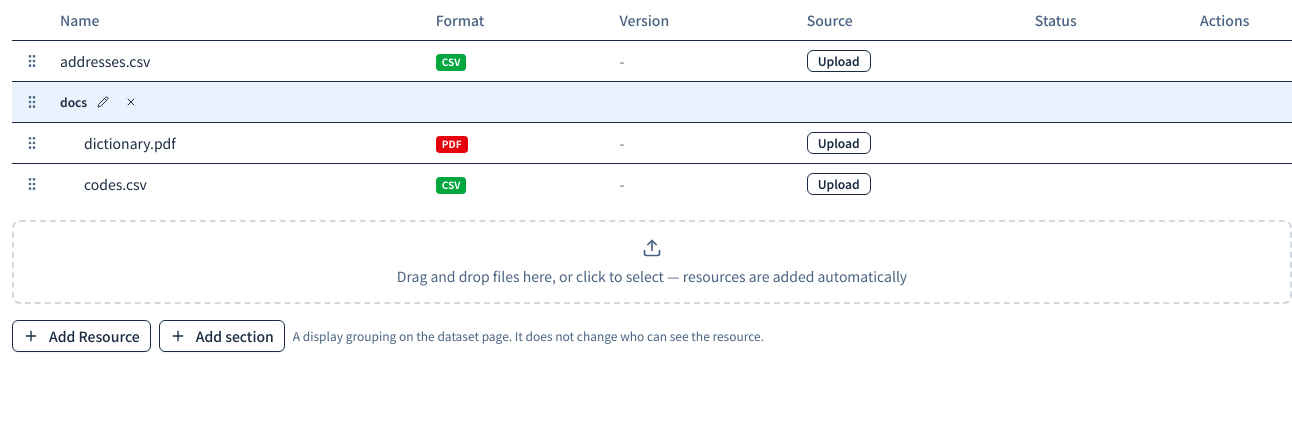
ResourceList sections › should refuse a new section named like one that already exists
Click the button "Add section".
click(222, 336)  # box left=159, top=320, right=285, bottom=352
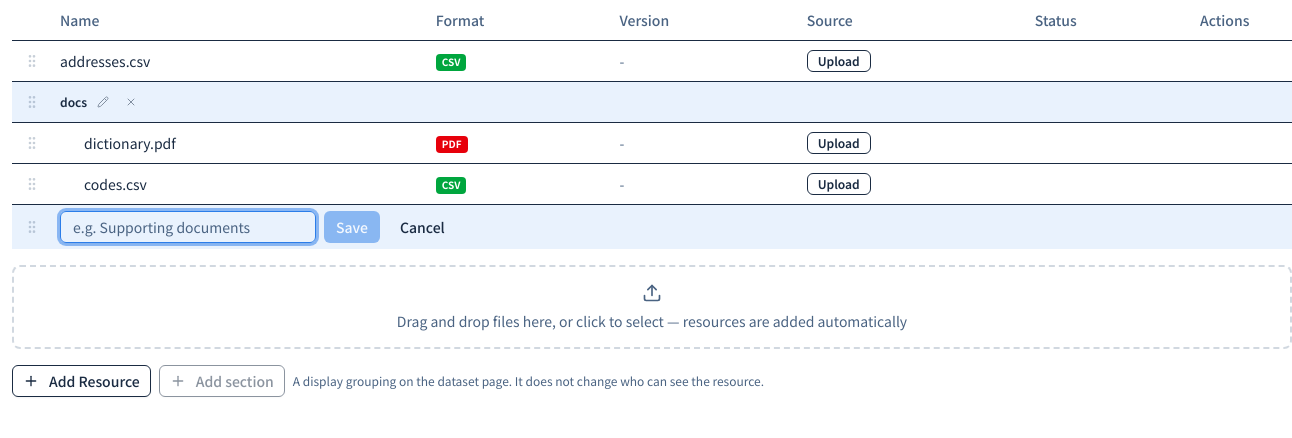
Type " docs " into the field named "Section name".
click(188, 226); type(" docs ")  # box left=60, top=210, right=316, bottom=242
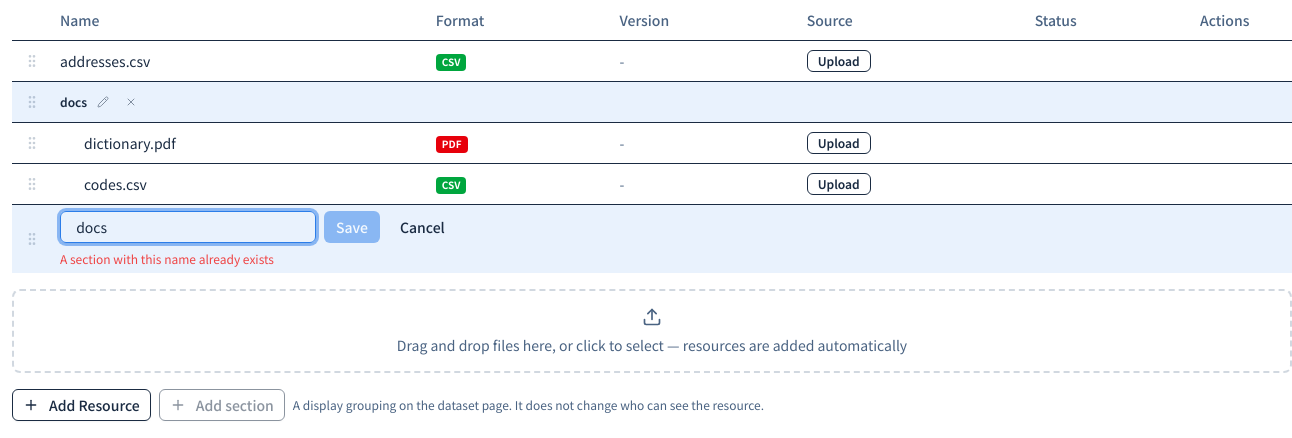
Check: the button "Save" is disabled, box left=324, top=210, right=380, bottom=242
Check: the message shows "already exists", box left=60, top=250, right=274, bottom=266
